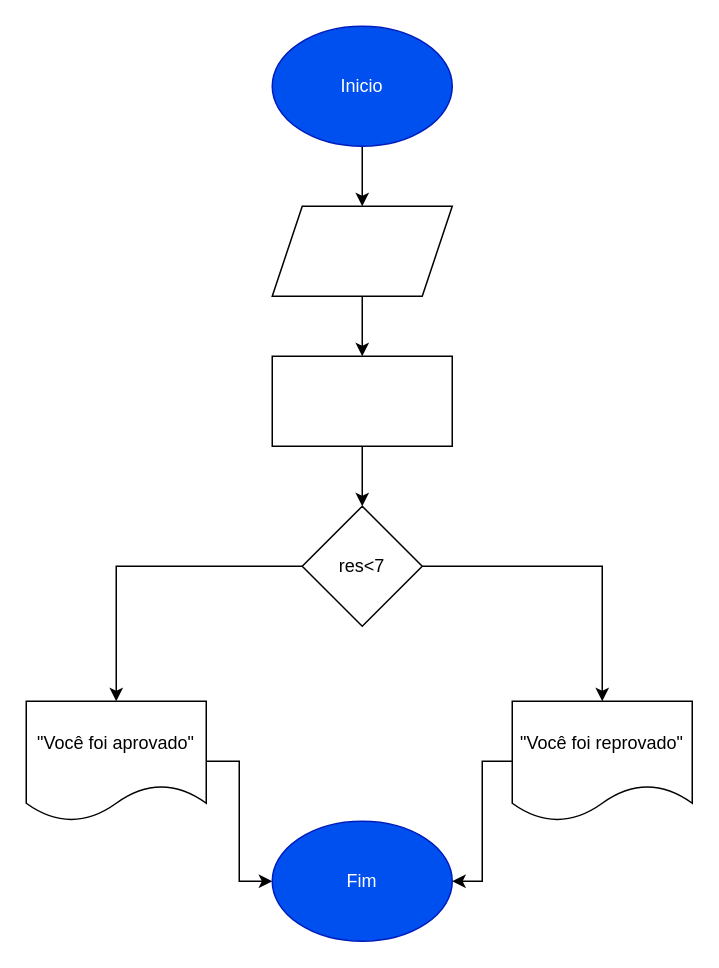
The diagram is 719 pixels wide and 968 high, and some of its shapes have lost their labels. Here are the shapes that lost their labels. From the top down, the centre of each, then its label:
(361,250): n1,n2,n3,n4,n5,n6,n7,n8
(361,400): res =(n1+n2+n3+n4+n5+n6+n7+n8)/7
